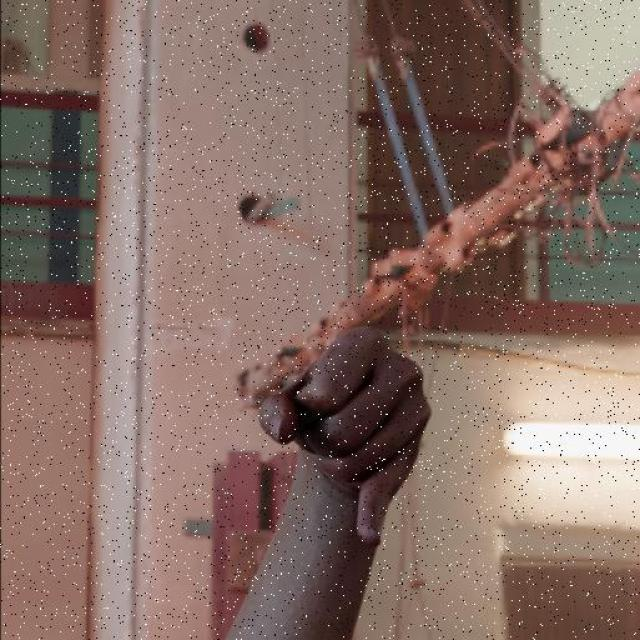J: (251, 324, 434, 548)
